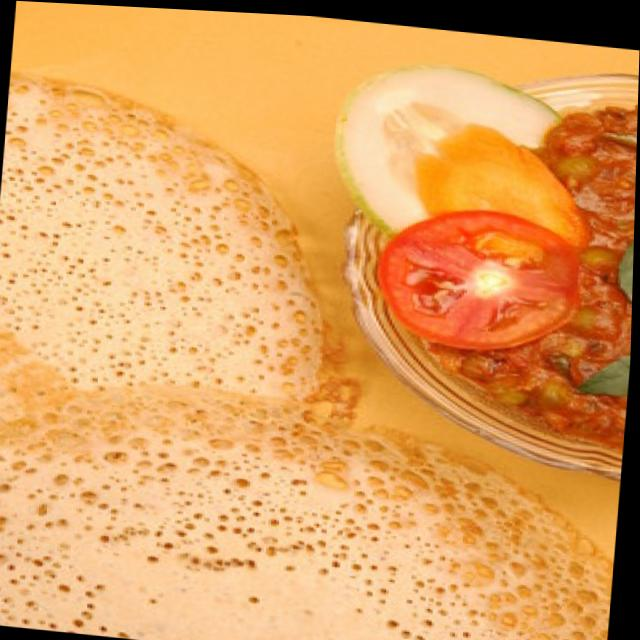AAPAM: (0, 71, 605, 640)
VEGGIES: (333, 72, 638, 452)
